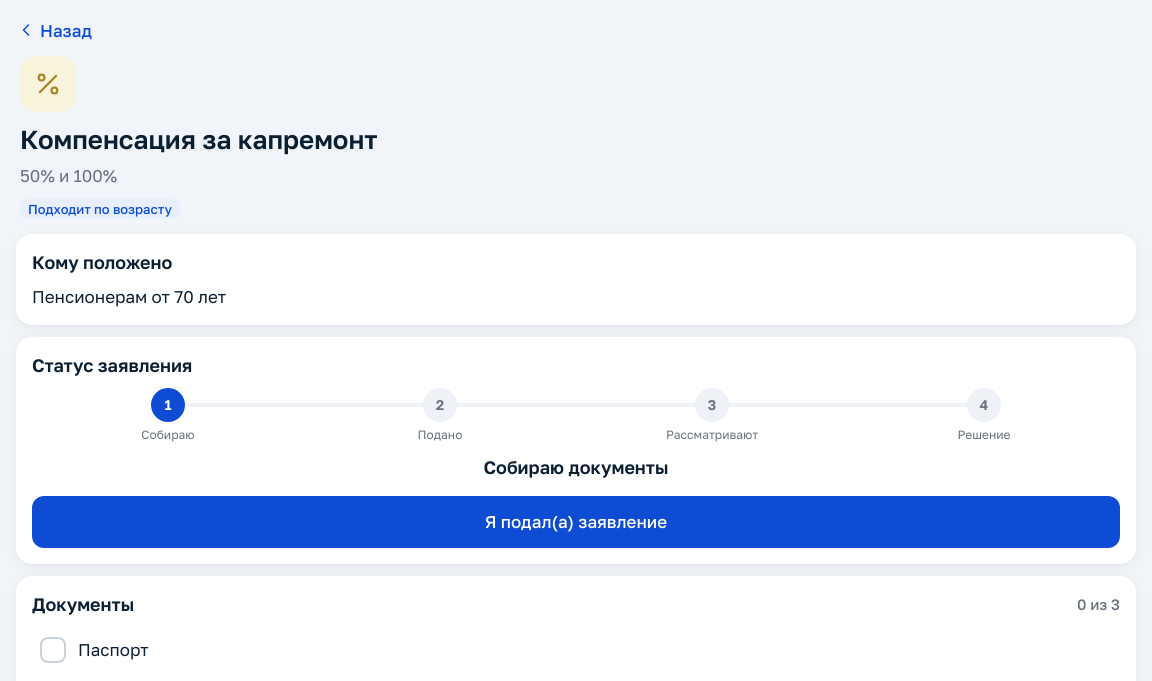
Test: BenefitPage › быстрые нажатия на документы не теряются и уходят по порядку
The image size is (1152, 681).
Expected: the text "0 из 3" is shown, [1077,594,1120,615]
Click the button "Паспорт" at (113, 649), box [32,627,1120,675]
(page scrolled)
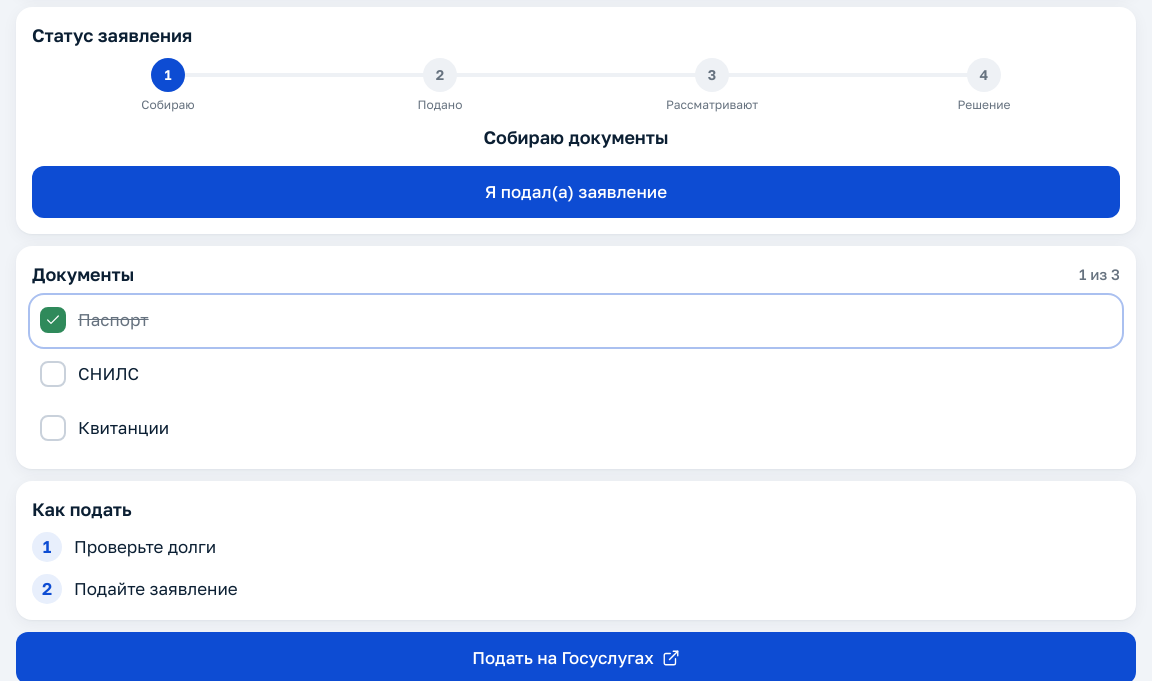
Click the button "СНИЛС" at (109, 373), box [32,351,1120,399]
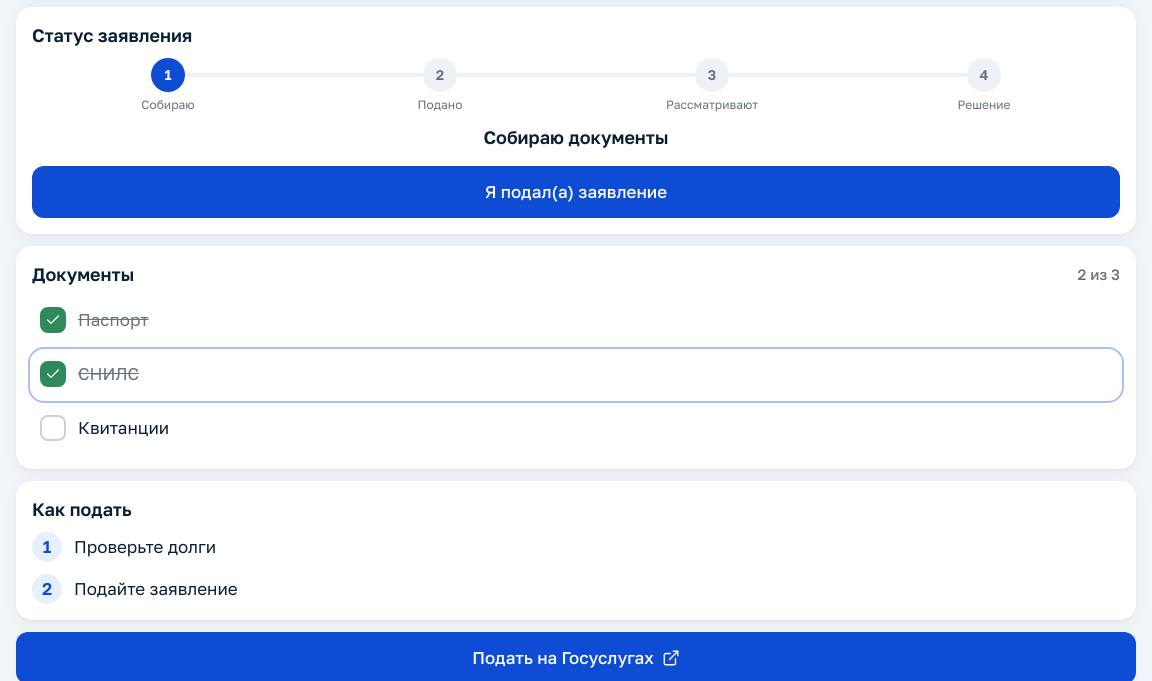
Click the button "Квитанции" at (124, 427), box [32,405,1120,453]
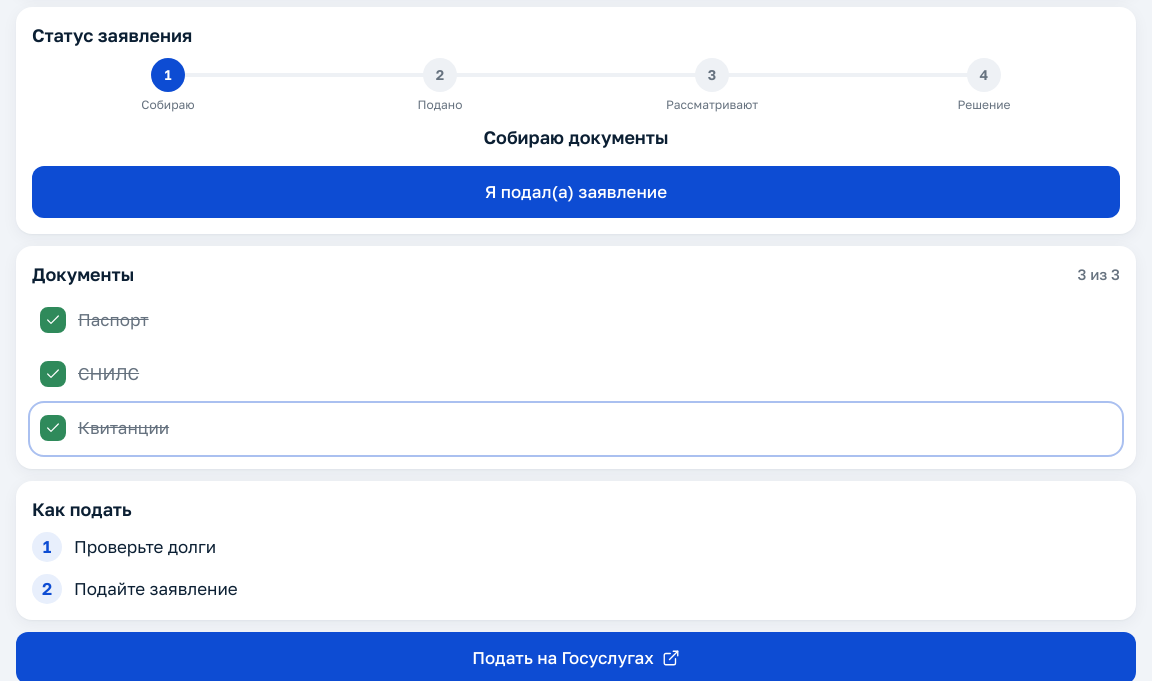
Expected: the text "3 из 3" is shown, [1077,264,1120,285]
Click the button "СНИЛС" at (109, 373), box [32,351,1120,399]
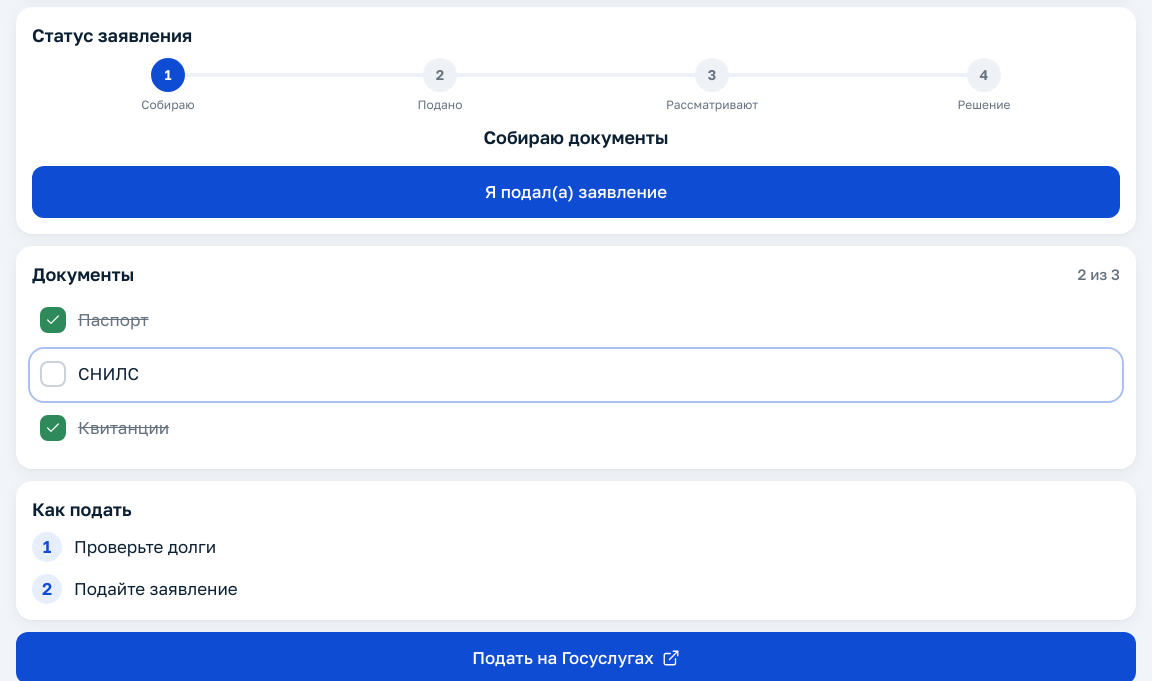
Expected: the text "2 из 3" is shown, [1078,264,1120,285]
